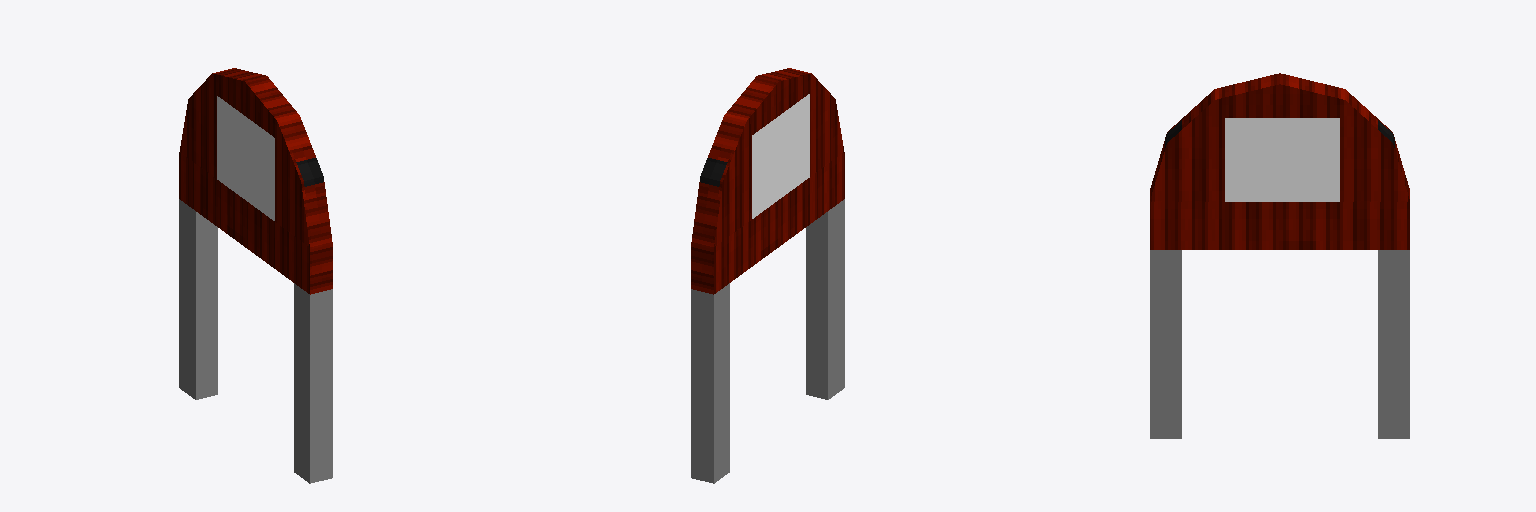
3 renders of one model, left to right at view 1: azimuth 30°, elevation 25°; view 2: azimuth 150°, elevation 25°; view 3: azimuth 270°, elevation 25°, orthographic.
Parts seen in each view (by area): view 1: Object001, Arch_funny; view 2: Object001, Arch_funny; view 3: Object001, Arch_funny.
Boxes of the visible parts, x1=… form: Object001: x1=179, y1=68, x2=332, y2=294; Arch_funny: x1=179, y1=199, x2=332, y2=483; Object001: x1=691, y1=68, x2=844, y2=294; Arch_funny: x1=691, y1=199, x2=844, y2=483; Object001: x1=1150, y1=73, x2=1409, y2=249; Arch_funny: x1=1150, y1=250, x2=1409, y2=438.
Bounding box in the file's own units: 1 × 15 × 10.
Materials: 2 (1 with a texture image).